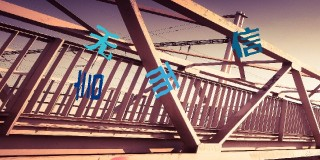信: (232, 26, 263, 59)
无: (85, 25, 118, 59)
而: (145, 61, 180, 99)
言: (74, 70, 104, 100)
